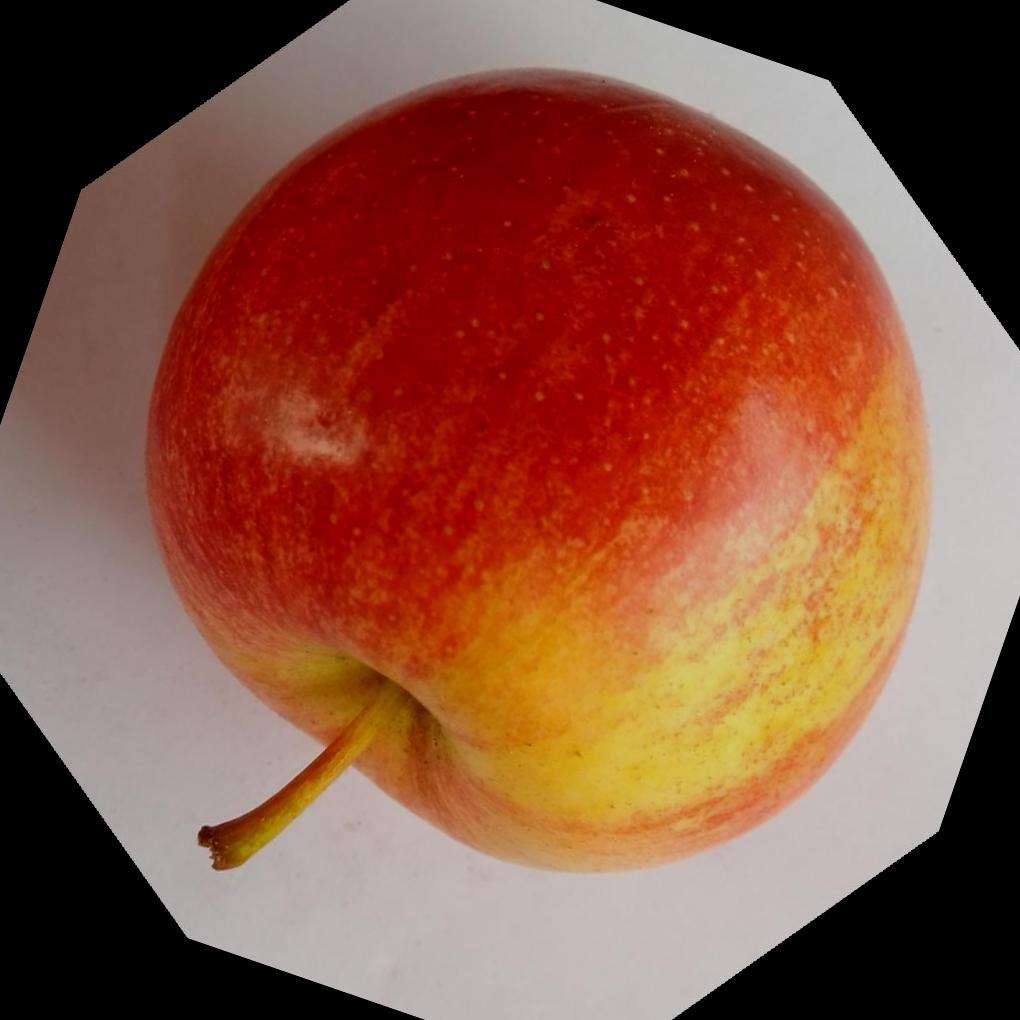FreshGuava: (142, 68, 934, 879)
